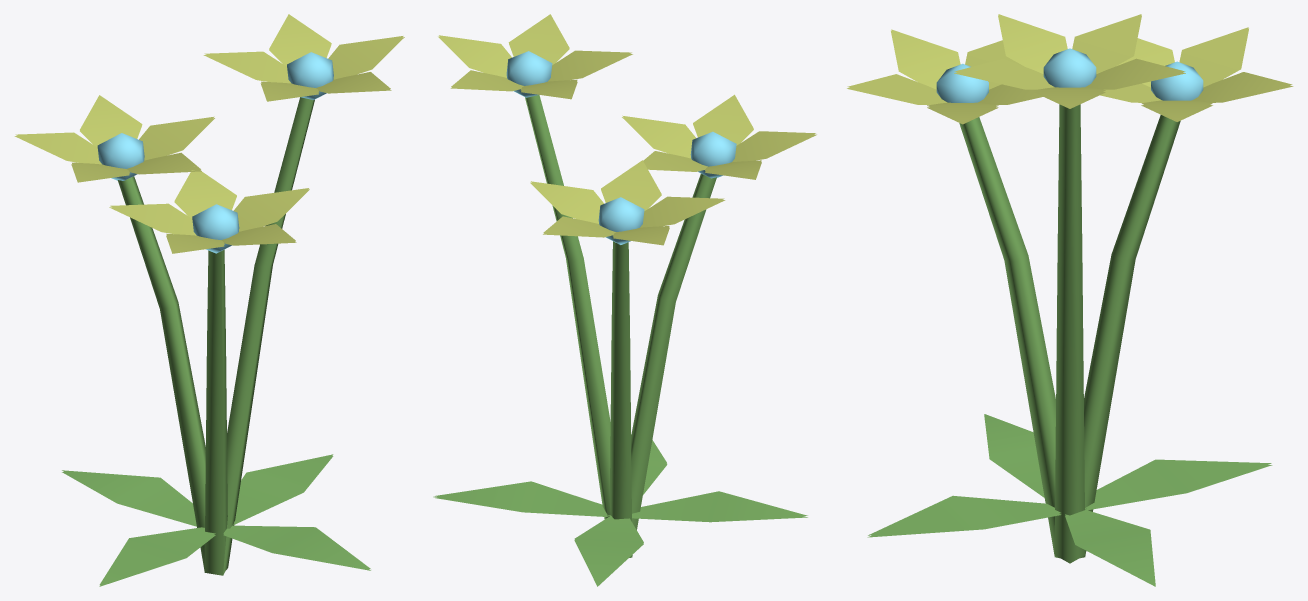
Rendered from flower.fbx.
The picture shows the model from 3 angles, left to right: view 1: azimuth 30°, elevation 25°; view 2: azimuth 150°, elevation 25°; view 3: azimuth 270°, elevation 25°; orthographic projection. The views are drawn at different scales.
Parts seen in each view (by area): view 1: flower_LOD0; view 2: flower_LOD0; view 3: flower_LOD0.
Boxes of the visible parts, x1=… form: flower_LOD0: x1=14, y1=14, x2=404, y2=586; flower_LOD0: x1=433, y1=14, x2=816, y2=586; flower_LOD0: x1=847, y1=14, x2=1293, y2=586.
Bounding box in the file's own units: 0.4355 × 0.6005 × 0.4341.
